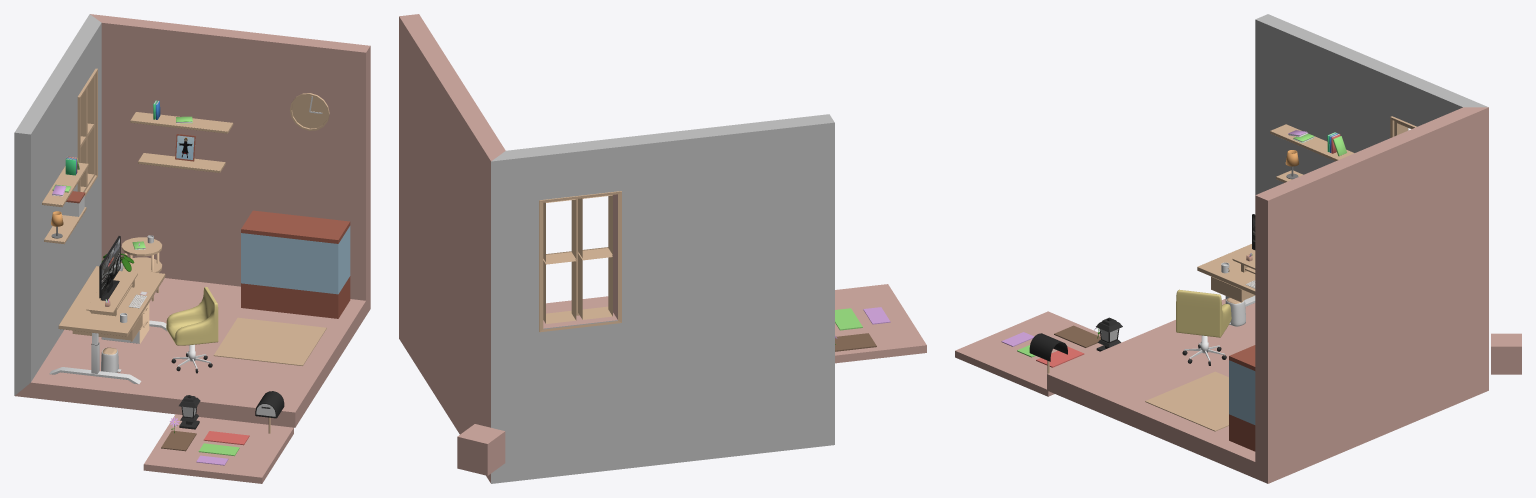
The model's file is Finale Version 3.glb.
The picture shows the model from 3 angles, left to right: view 1: azimuth 30°, elevation 25°; view 2: azimuth 150°, elevation 25°; view 3: azimuth 270°, elevation 25°; orthographic projection. The views are drawn at different scales.
Visible parts, largest first — view 1: Body, Aquarium, Floor Items, Mini Floor, Desks, Shelves, Table Stuff, Cube.099, Computer, Mailbox, Lamp, Dirt (+1 smaller); view 2: Body, Mini Floor, Cube, Dirt; view 3: Body, Floor Items, Mini Floor, Aquarium, Desks, Shelves, Cube, Mailbox, Lamp.
Boxes of the visible parts, bbox=[...] form: Body: bbox=[14, 14, 370, 427]; Aquarium: bbox=[241, 210, 350, 318]; Floor Items: bbox=[101, 287, 326, 373]; Mini Floor: bbox=[143, 414, 293, 483]; Desks: bbox=[49, 237, 167, 384]; Shelves: bbox=[42, 100, 233, 244]; Table Stuff: bbox=[86, 235, 153, 322]; Cube.099: bbox=[290, 93, 329, 130]; Computer: bbox=[99, 236, 120, 300]; Mailbox: bbox=[255, 391, 284, 433]; Lamp: bbox=[179, 395, 200, 429]; Dirt: bbox=[161, 430, 196, 451]; Body: bbox=[399, 14, 834, 483]; Mini Floor: bbox=[835, 284, 926, 363]; Cube: bbox=[457, 424, 505, 475]; Dirt: bbox=[835, 333, 876, 351]; Body: bbox=[1047, 14, 1488, 483]; Floor Items: bbox=[1145, 289, 1245, 431]; Mini Floor: bbox=[955, 311, 1121, 396]; Aquarium: bbox=[1229, 345, 1255, 451]; Desks: bbox=[1197, 244, 1255, 306]; Shelves: bbox=[1270, 124, 1354, 182]; Cube: bbox=[1491, 333, 1521, 374]; Mailbox: bbox=[1029, 333, 1067, 373]; Lamp: bbox=[1096, 317, 1122, 351].
Size of the model in its own units: 28.62 by 20.72 by 36.72.
Materials: 37 (2 with a texture image).
